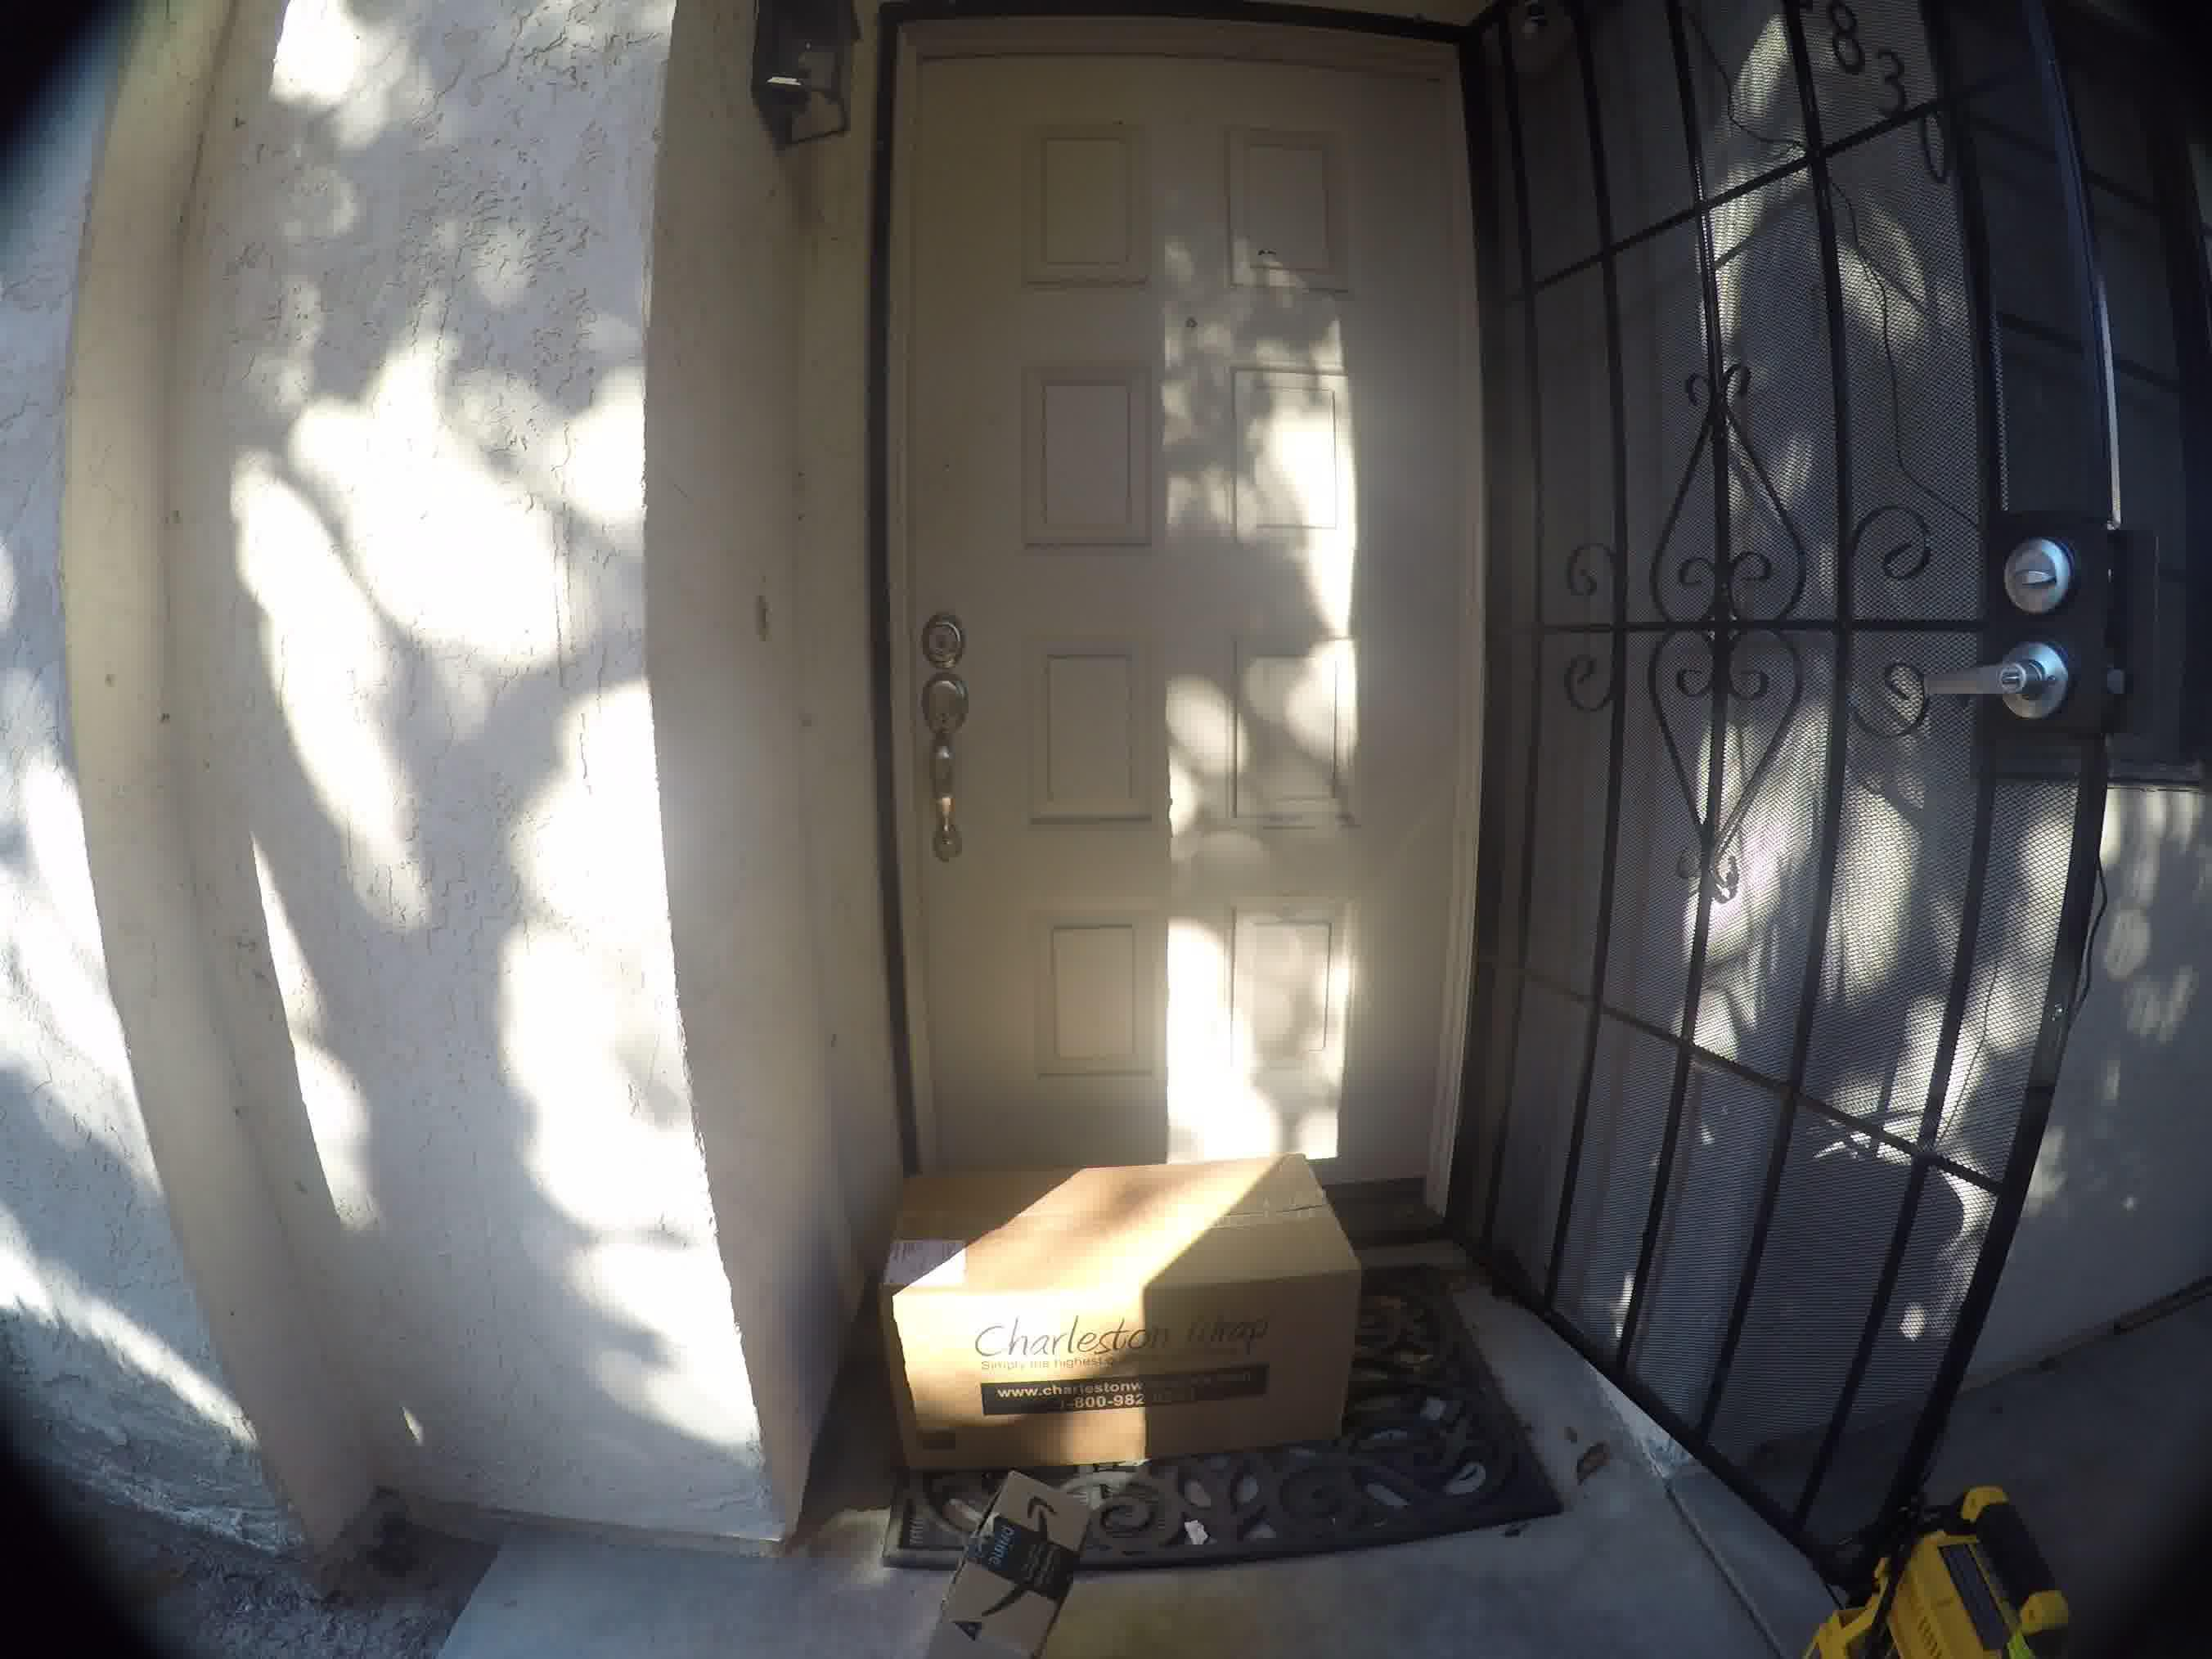box: (892, 1143, 1378, 1474)
